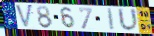6: (59, 6, 76, 30)
7: (78, 7, 94, 30)
8: (36, 5, 54, 29)
I: (106, 8, 116, 32)
U: (117, 7, 140, 33)
V: (15, 4, 34, 30)
